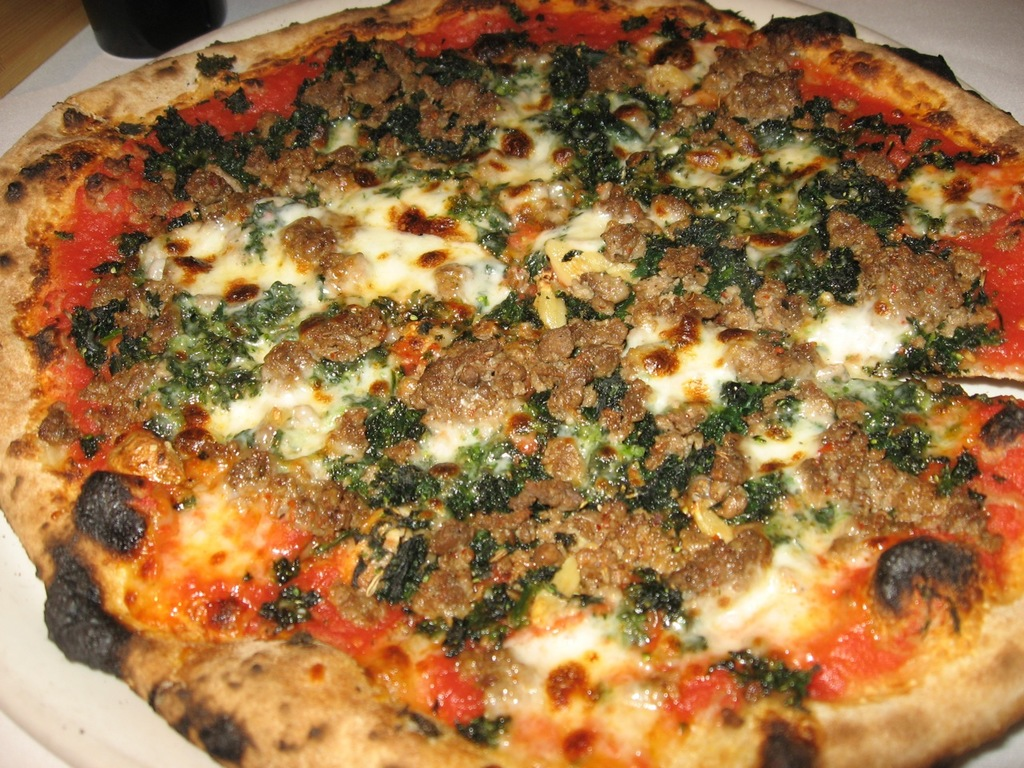Pizza: (526, 303, 1023, 767), (51, 243, 411, 705), (0, 101, 318, 588), (188, 284, 502, 757), (583, 0, 1016, 237), (390, 0, 774, 239), (728, 123, 1023, 380), (58, 0, 358, 215)
